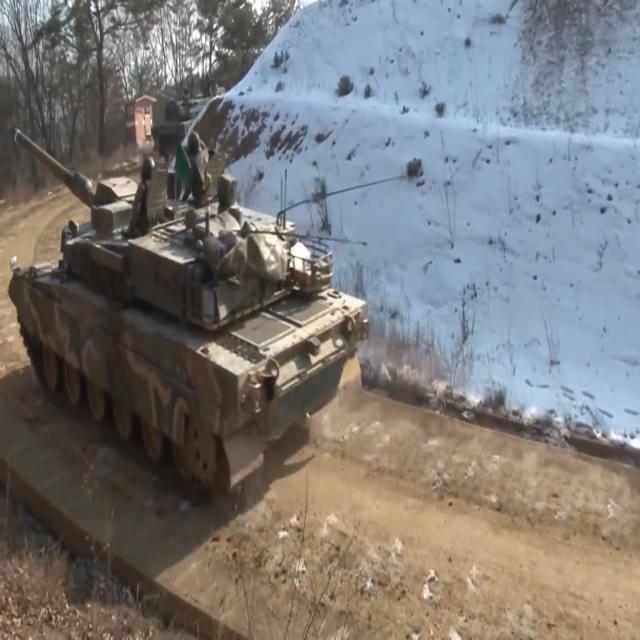korea tank: (6, 122, 373, 509)
